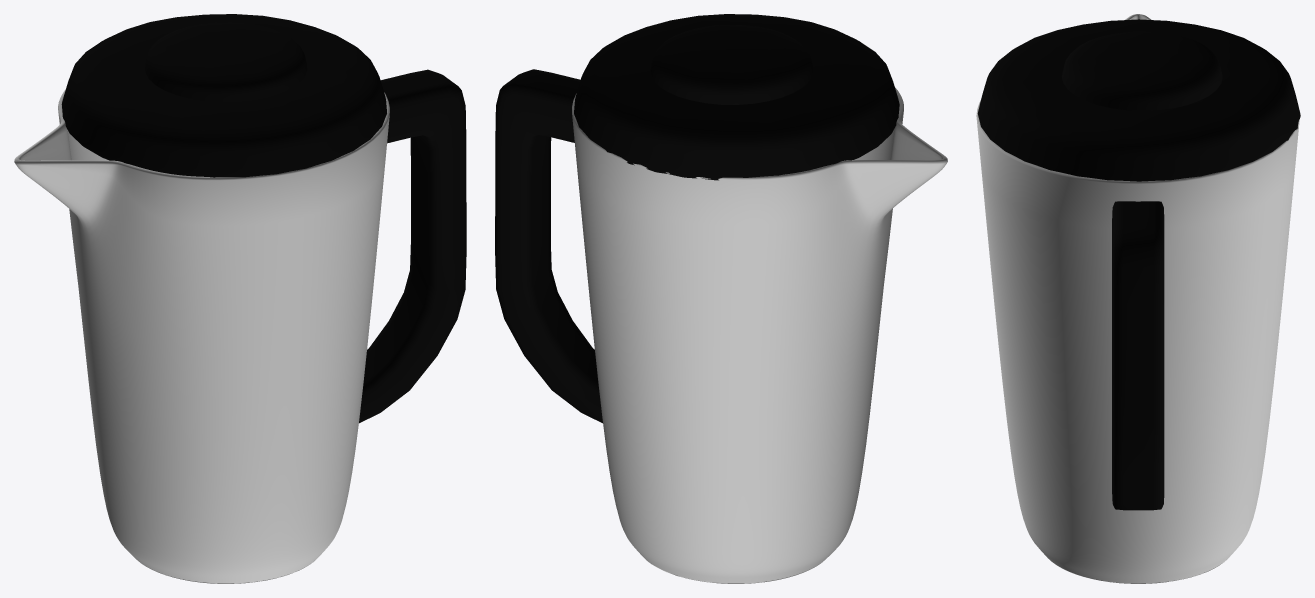
Rendered from blender_tank.obj.
The picture shows the model from 3 angles, left to right: view 1: azimuth 30°, elevation 25°; view 2: azimuth 150°, elevation 25°; view 3: azimuth 270°, elevation 25°; orthographic projection.
Parts seen in each view (by area): view 1: obj2, obj1.006, obj1.008, obj1.007; view 2: obj2, obj1.006, obj1.008, obj1.007; view 3: obj2, obj1.006, obj1.008, obj1.007.
Part boxes in pixels (left/top/right/bottom): obj2: left=14, top=90, right=389, bottom=583; obj1.006: left=61, top=14, right=386, bottom=177; obj1.008: left=359, top=69, right=466, bottom=423; obj1.007: left=145, top=22, right=307, bottom=102; obj2: left=572, top=87, right=947, bottom=583; obj1.006: left=574, top=14, right=899, bottom=180; obj1.008: left=495, top=69, right=602, bottom=423; obj1.007: left=650, top=25, right=813, bottom=104; obj2: left=976, top=14, right=1299, bottom=583; obj1.006: left=977, top=19, right=1300, bottom=181; obj1.008: left=1112, top=201, right=1164, bottom=510; obj1.007: left=1061, top=31, right=1222, bottom=110.
Bounding box in the file's own units: 2.39 × 2.56 × 1.54.
Materials: 2 (2 with a texture image).
